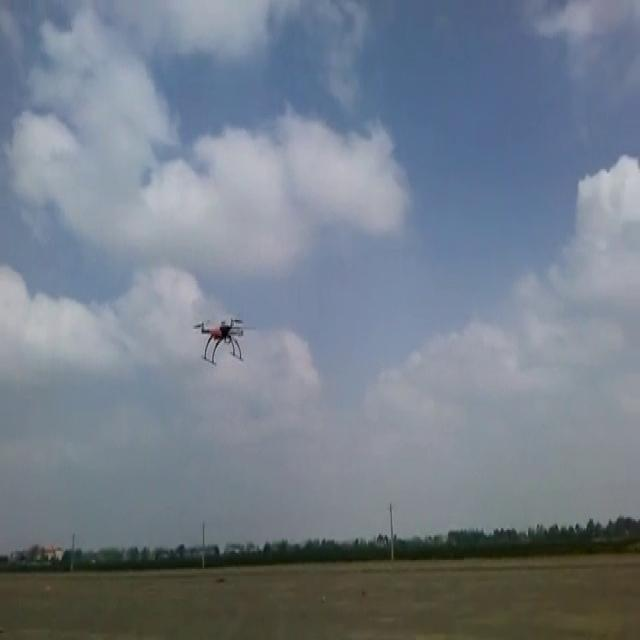drone: (191, 311, 243, 365)
